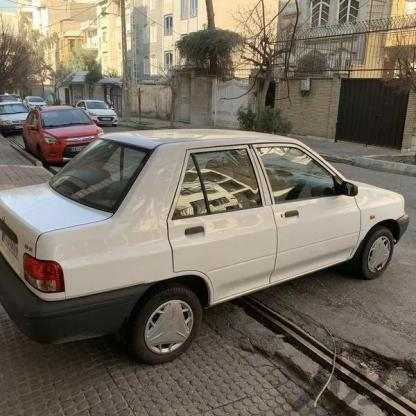Car: (0, 132, 416, 341), (26, 107, 113, 174), (75, 92, 136, 128), (0, 97, 34, 135)
